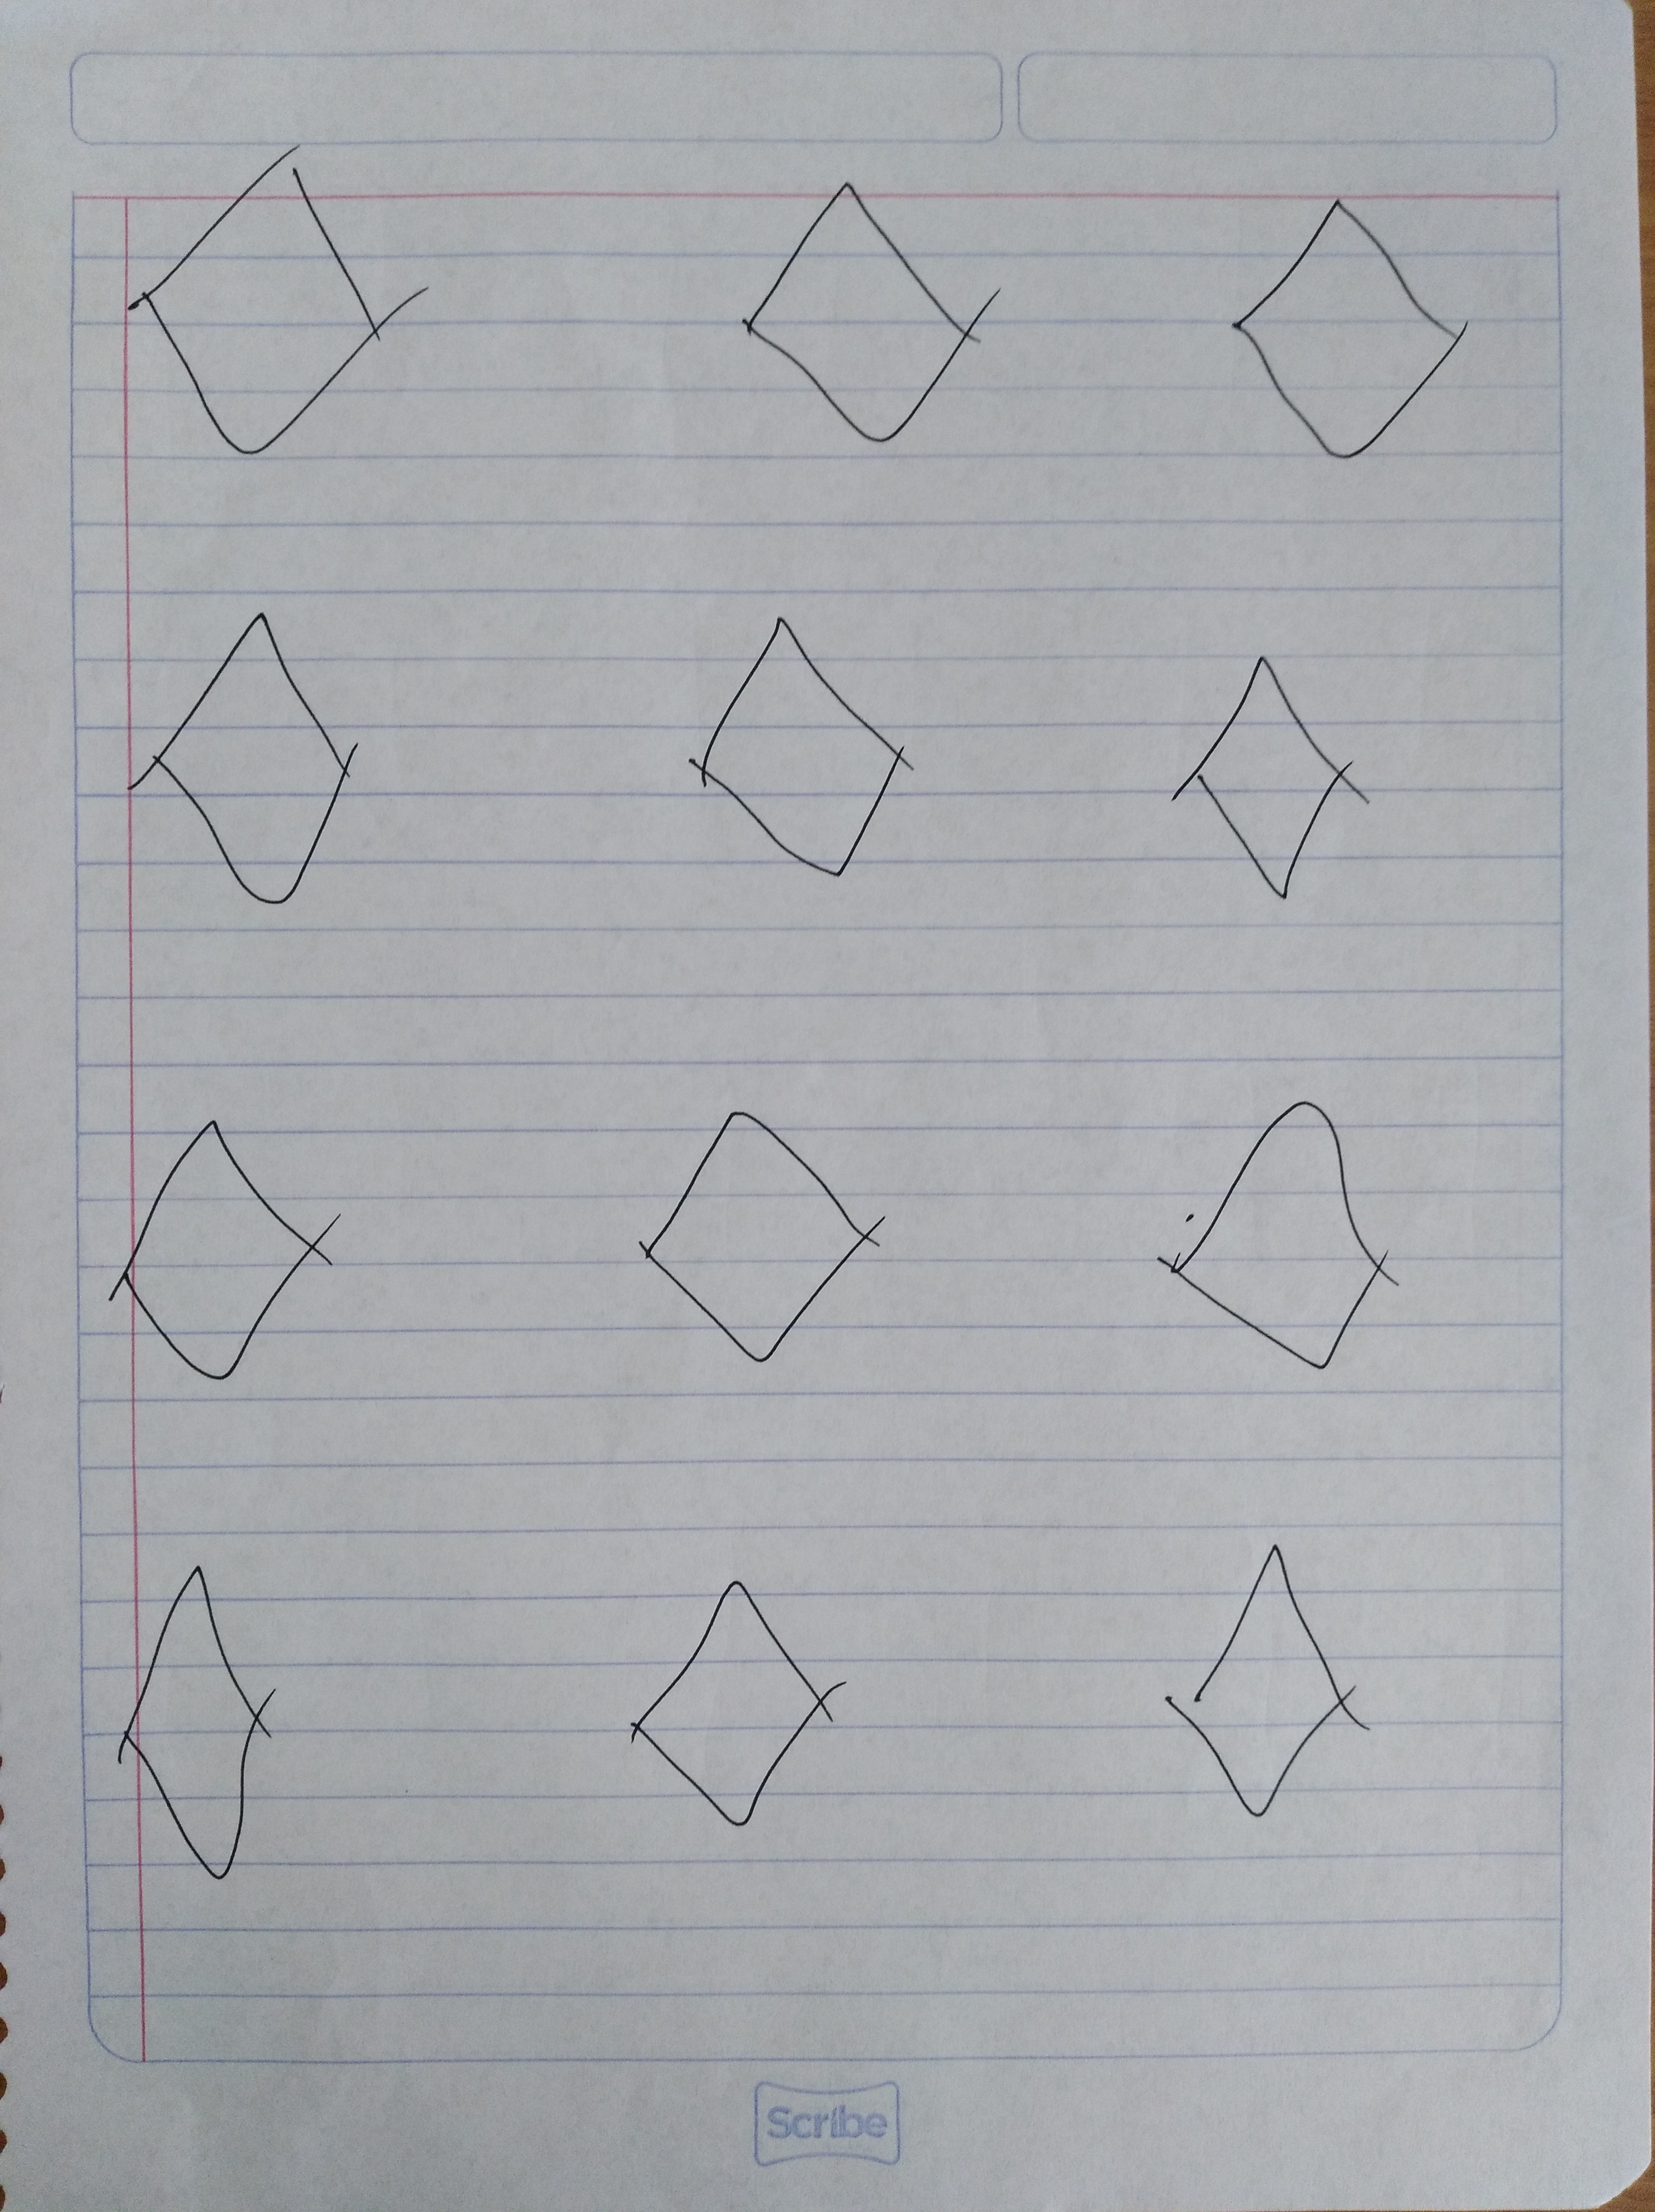decision: (78, 101, 476, 485), (1107, 1051, 1439, 1428), (702, 139, 1045, 478), (615, 594, 970, 917), (589, 1065, 925, 1394), (1193, 160, 1511, 502), (89, 580, 396, 931), (1121, 1503, 1415, 1866), (71, 1541, 342, 1929), (589, 1524, 885, 1856), (1123, 629, 1412, 961), (61, 1102, 372, 1401)
